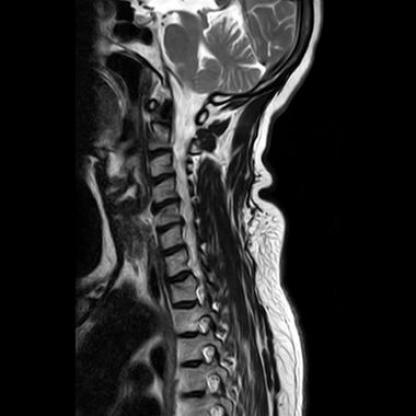Disc Bulgerotation: (153, 219, 184, 234)
Disc Protrusionrotation: (149, 197, 179, 214), (159, 244, 188, 258)
